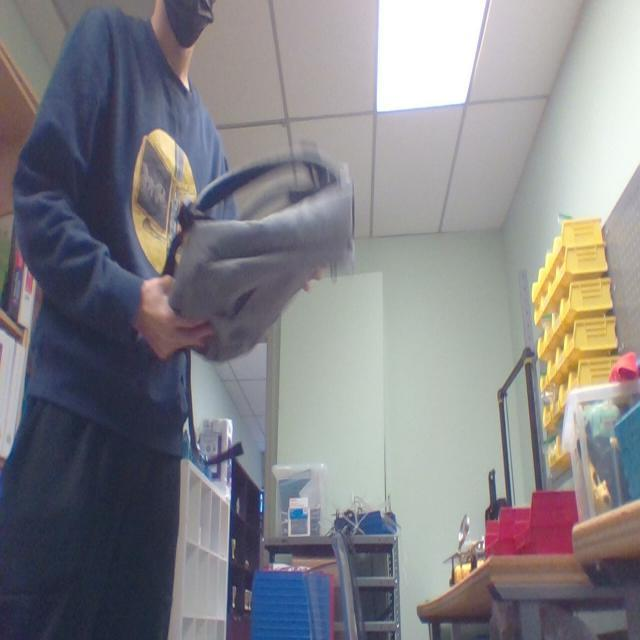Backpacks: (161, 148, 361, 368)
